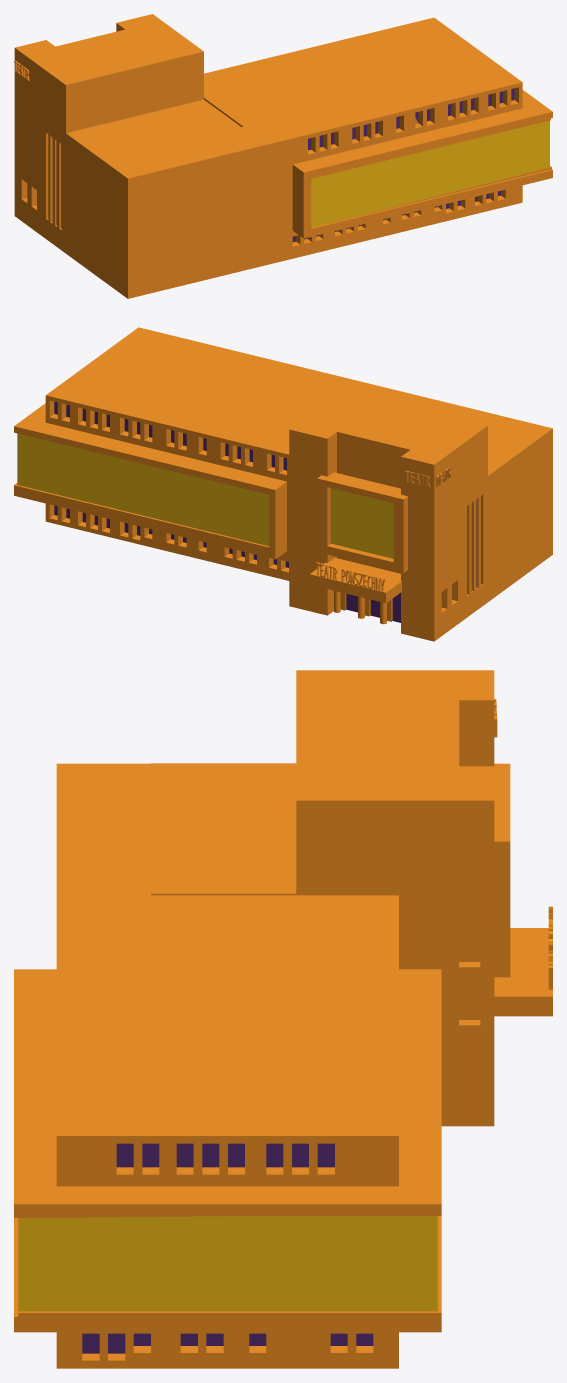
Rendered from Teatr.fbx.
3 renders of one model, top to bottom at view 1: azimuth 30°, elevation 25°; view 2: azimuth 150°, elevation 25°; view 3: azimuth 270°, elevation 25°, orthographic. The views are drawn at different scales.
Parts seen in each view (by area): view 1: Teatr_obj_0; view 2: Teatr_obj_0; view 3: Teatr_obj_0.
Boxes of the visible parts, left/top/right/bottom form: Teatr_obj_0: left=14, top=14, right=552, bottom=298; Teatr_obj_0: left=14, top=327, right=552, bottom=641; Teatr_obj_0: left=14, top=670, right=552, bottom=1368.
Bounding box in the file's own units: 38.99 × 15.09 × 22.64.
1 material, 1 textured.
